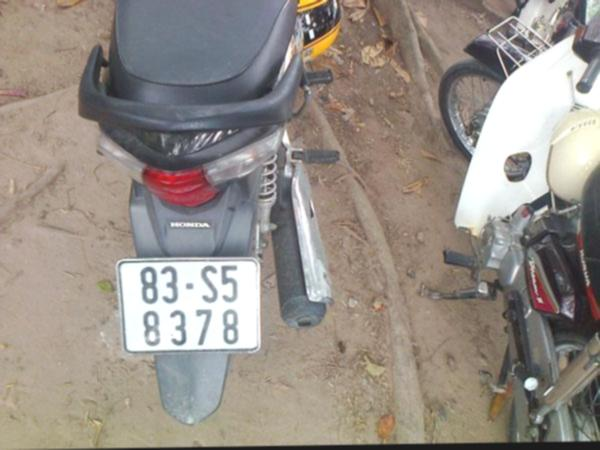License_Plate: (117, 253, 263, 359)
